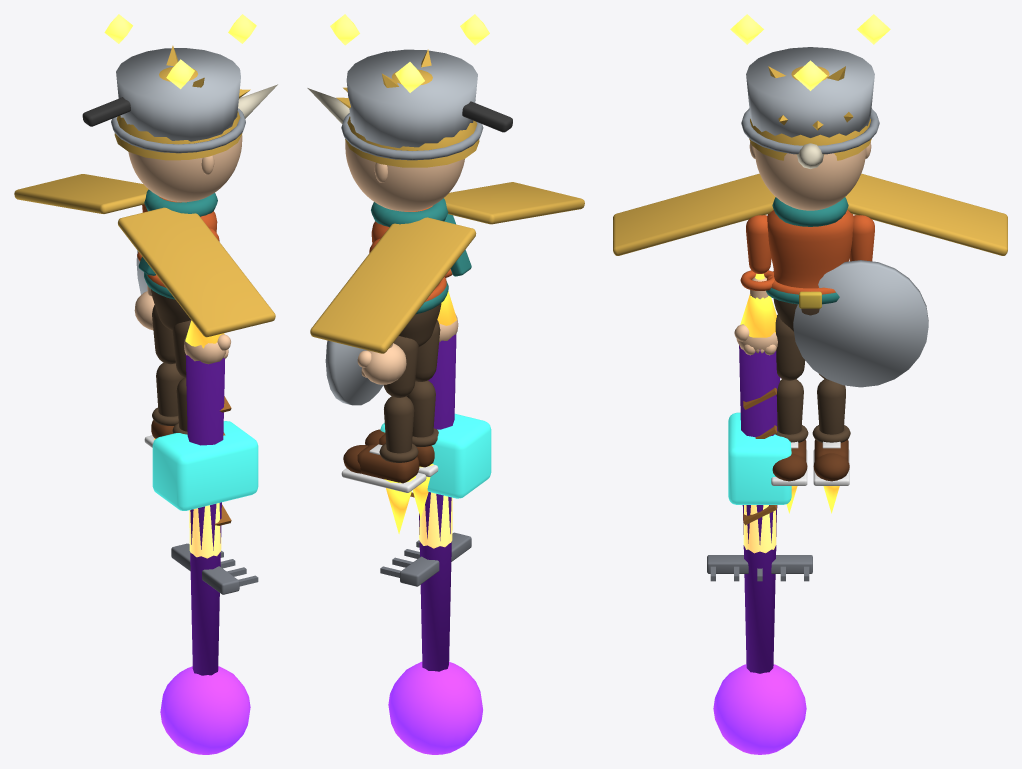
Rendered from pipoca.glb.
3 views of the same model, side by side, from view 1: azimuth 30°, elevation 25°; view 2: azimuth 150°, elevation 25°; view 3: azimuth 270°, elevation 25° (orthographic). The views are drawn at different scales.
Visible parts, largest first — view 1: wing0, pot, hammerHead, shadowArm, shadowFist, skull, wing1, hairCap, potRim, baguette, calf.001, rakeHead (+13 smaller); view 2: wing1, pot, shadowFist, shadowArm, hammerHead, skull, wing0, prop:lid, hairCap, potRim, calf.001, shoe.001 (+15 smaller); view 3: prop:lid, pot, wing0, wing1, shadowArm, shadowFist, torso, skull, hammerHead, hairCap, potRim, calf.001 (+10 smaller).
Part boxes in pixels (<box>): wing0: <box>118,207,275,337</box>; pot: <box>116,48,240,141</box>; hammerHead: <box>152,421,258,510</box>; shadowArm: <box>185,354,225,675</box>; shadowFist: <box>160,666,250,754</box>; skull: <box>128,135,242,202</box>; wing1: <box>14,174,148,213</box>; hairCap: <box>114,66,242,160</box>; potRim: <box>111,108,245,153</box>; baguette: <box>189,503,221,558</box>; calf.001: <box>156,362,183,416</box>; rakeHead: <box>171,543,239,594</box>; wing1: <box>310,217,476,353</box>; pot: <box>346,49,477,148</box>; shadowFist: <box>388,661,482,754</box>; shadowArm: <box>419,334,456,671</box>; hammerHead: <box>380,413,491,498</box>; skull: <box>345,141,464,211</box>; wing0: <box>444,182,584,224</box>; prop:lid: <box>325,340,383,405</box>; hairCap: <box>345,69,479,167</box>; potRim: <box>341,113,483,160</box>; calf.001: <box>384,396,414,453</box>; shoe.001: <box>357,444,419,483</box>; prop:lid: <box>793,260,928,387</box>; pot: <box>746,47,874,137</box>; wing0: <box>613,173,775,255</box>; wing1: <box>845,173,1007,255</box>; shadowArm: <box>739,345,780,673</box>; shadowFist: <box>713,664,806,754</box>; torso: <box>767,210,853,288</box>; skull: <box>754,148,866,210</box>; hammerHead: <box>728,412,791,504</box>; hairCap: <box>749,66,871,160</box>; potRim: <box>741,108,879,154</box>; calf.001: <box>817,379,845,434</box>.
Bounding box in the file's own units: 1.08 × 3.76 × 1.86.
